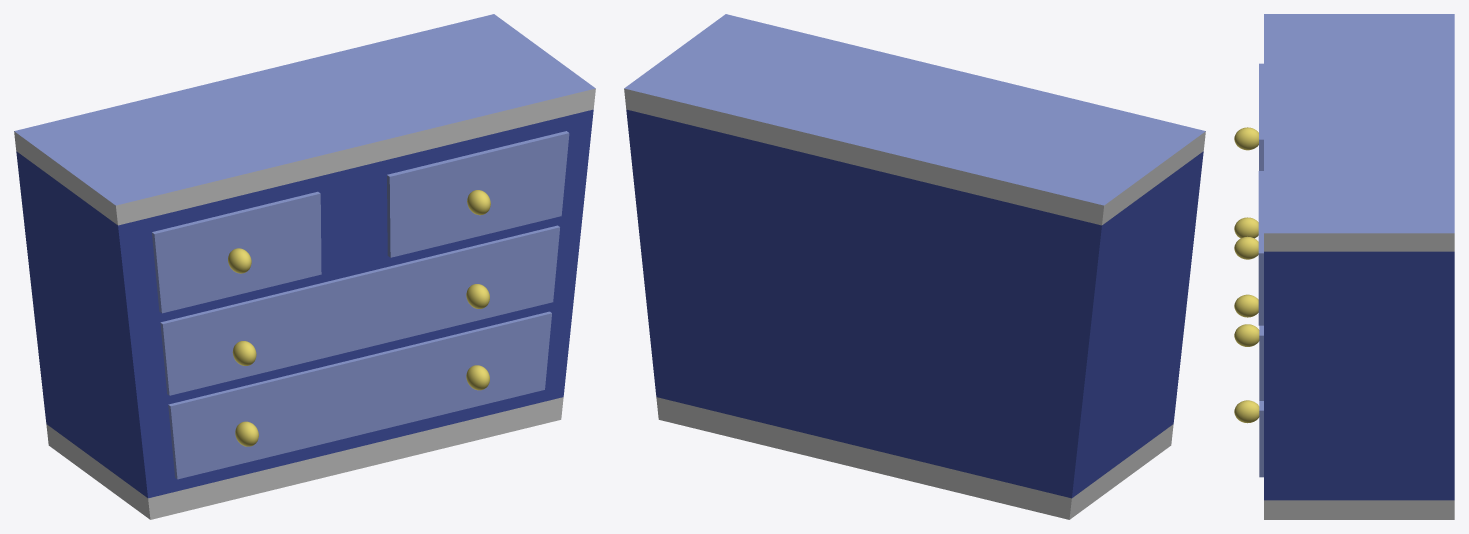
File: Comoda.obj
3 views of the same model, side by side, from view 1: azimuth 30°, elevation 25°; view 2: azimuth 150°, elevation 25°; view 3: azimuth 270°, elevation 25° (orthographic). The views are drawn at different scales.
Parts seen in each view (by area): view 1: pCube1 group3; view 2: pCube1 group3; view 3: pCube1 group3, group3 pSphere5, group3 pSphere4, group3 pSphere1, group3 pSphere6, group3 pSphere2, group3 pSphere3.
Boxes of the visible parts, box(x1,y1,x2,y2) form: pCube1 group3: box(14, 14, 595, 519); pCube1 group3: box(624, 14, 1205, 519); pCube1 group3: box(1258, 14, 1454, 519); group3 pSphere5: box(1234, 400, 1259, 423); group3 pSphere4: box(1234, 324, 1259, 346); group3 pSphere1: box(1234, 127, 1258, 150); group3 pSphere6: box(1234, 294, 1258, 317); group3 pSphere2: box(1234, 236, 1258, 259); group3 pSphere3: box(1234, 217, 1258, 238).
Bounding box in the file's own units: 3.52 × 2.26 × 1.49.
